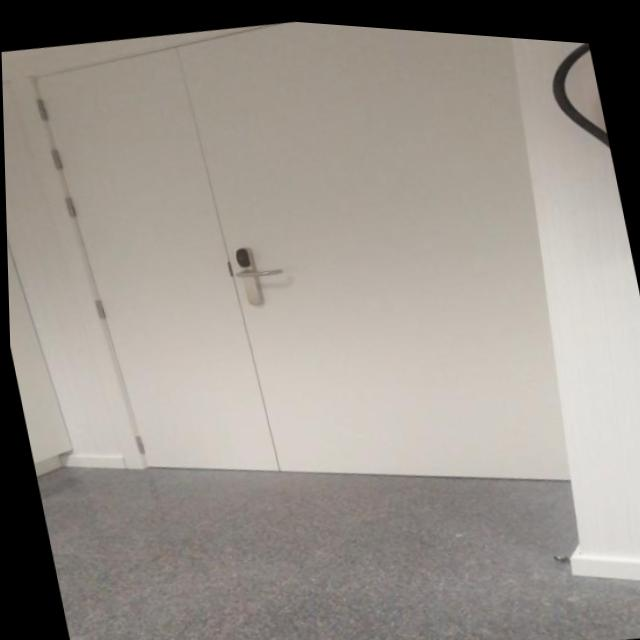door_handle: (229, 256, 286, 280)
